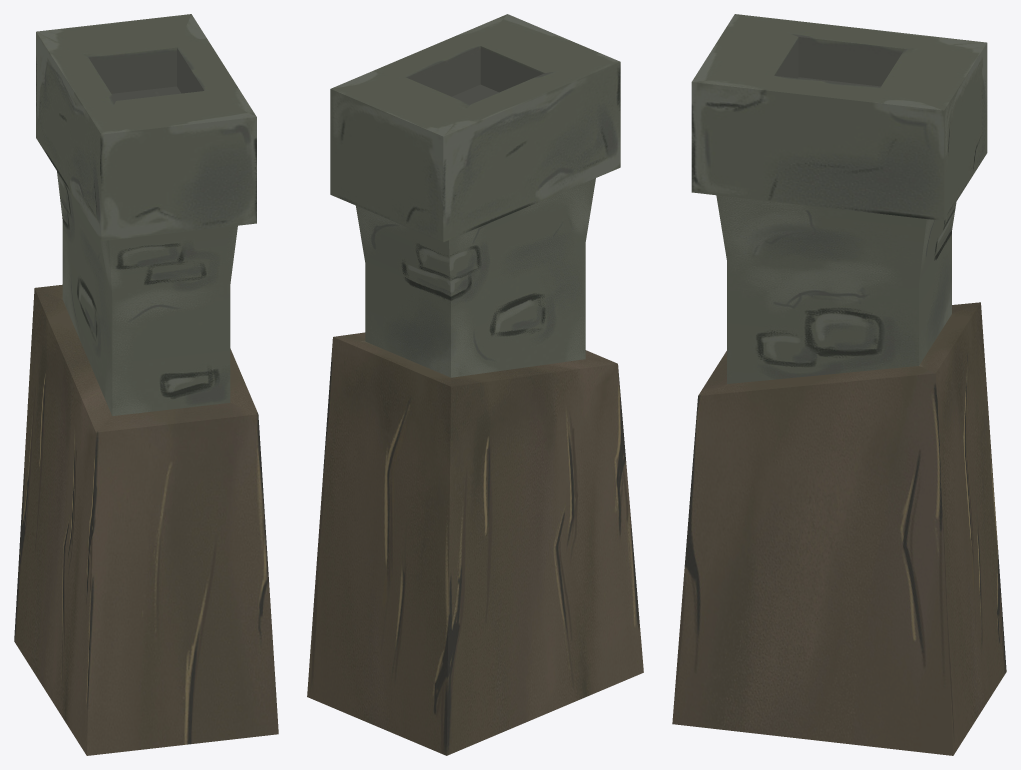
The model's file is polysurface526_txt_chem1_0_lev1_lev2.glb.
The picture shows the model from 3 angles, left to right: view 1: azimuth 30°, elevation 25°; view 2: azimuth 150°, elevation 25°; view 3: azimuth 270°, elevation 25°; orthographic projection. The views are drawn at different scales.
Visible parts, largest first — view 1: polysurface526_txt_chem1_0_lev1_lev2; view 2: polysurface526_txt_chem1_0_lev1_lev2; view 3: polysurface526_txt_chem1_0_lev1_lev2.
Part boxes in pixels (<box>): polysurface526_txt_chem1_0_lev1_lev2: <box>14,14,278,755</box>; polysurface526_txt_chem1_0_lev1_lev2: <box>307,14,643,755</box>; polysurface526_txt_chem1_0_lev1_lev2: <box>672,14,1006,755</box>.
Bounding box in the file's own units: 1.14 × 2.91 × 1.39.
1 material, 1 textured.
